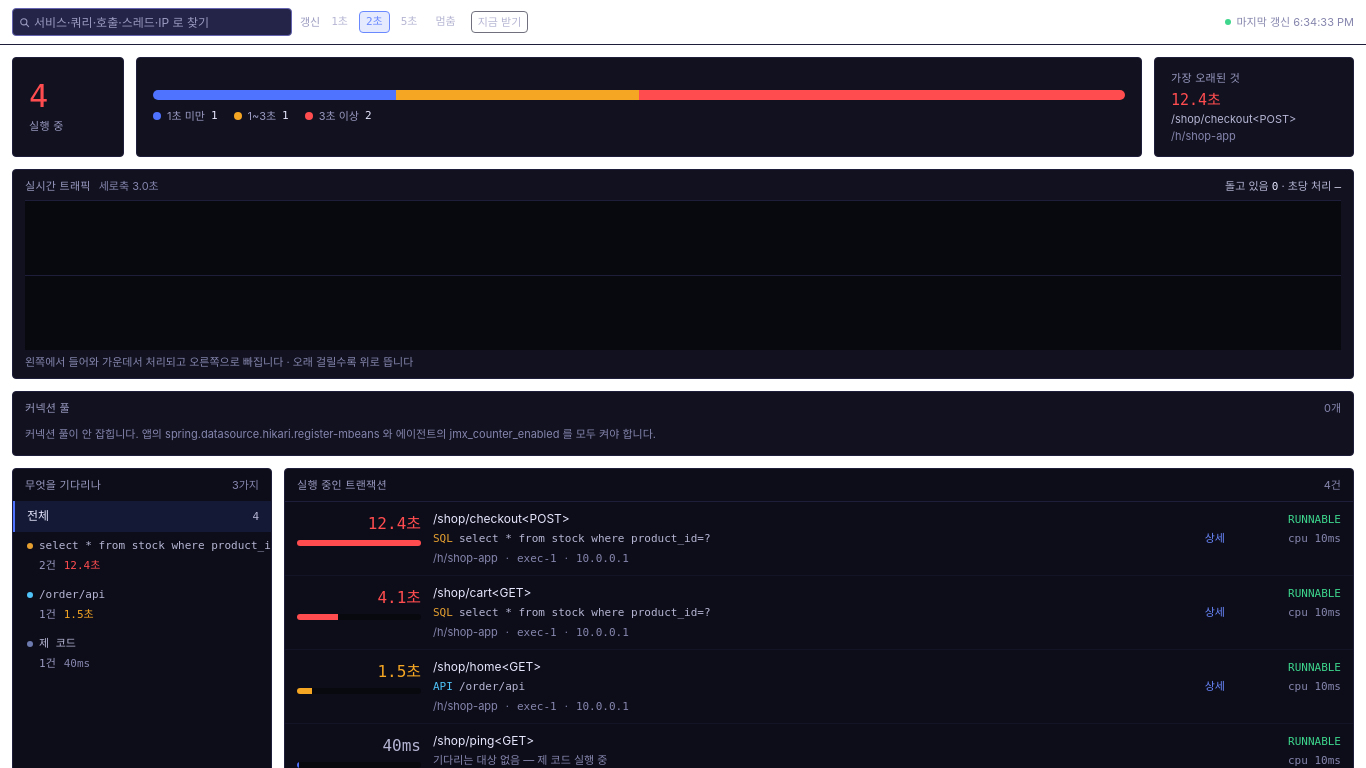
ActiveTab — 목록 › 쿼리의 «상세» 를 누르면 쿼리 창이 열리고, 스택 창은 열리지 않는다
Click the 1st button titled "쿼리 상세 보기": click(585, 538) [429,530,1229,548]
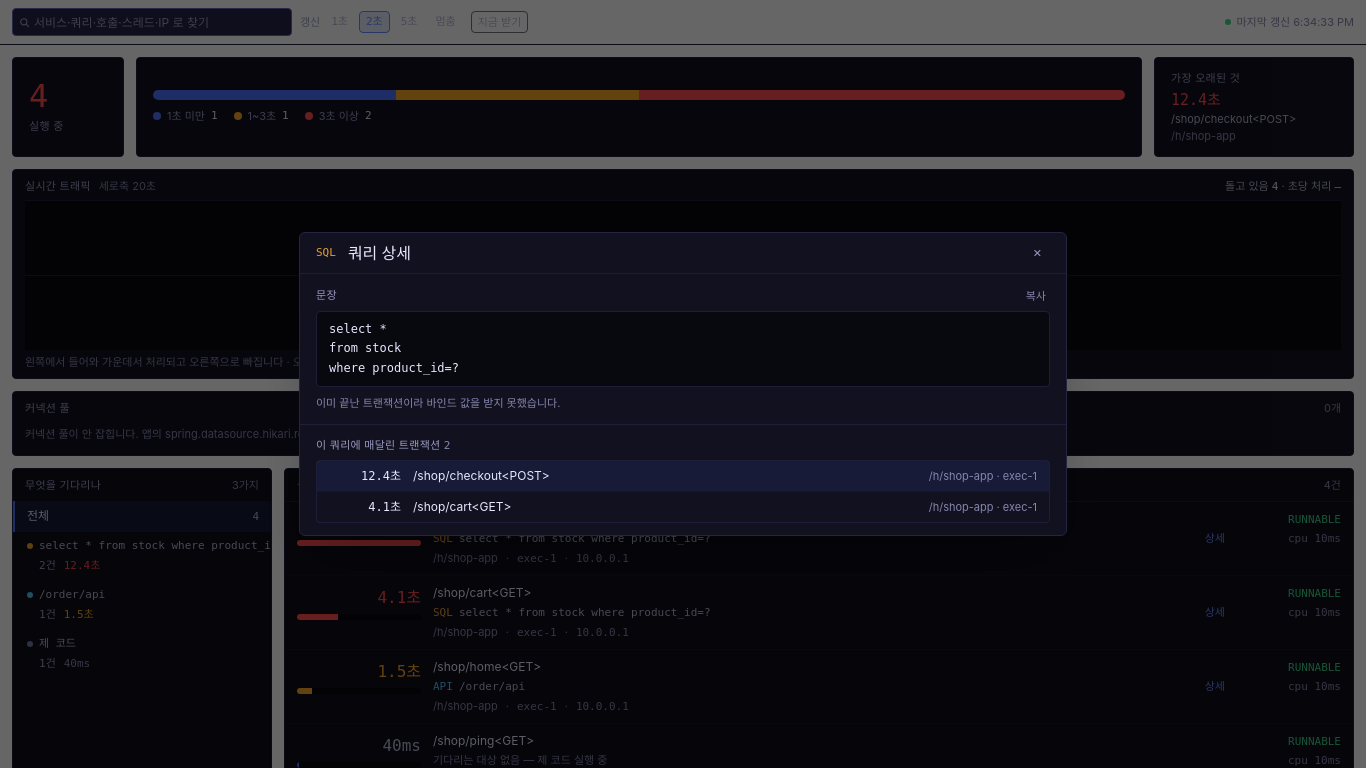
Result: the dialog "쿼리 상세" is shown at [299,232,1067,536]
